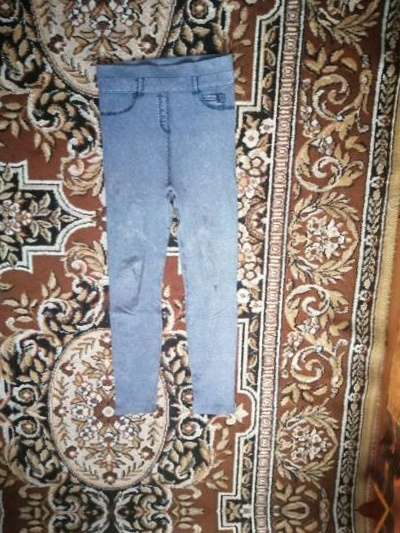Pants: (79, 24, 284, 407)
